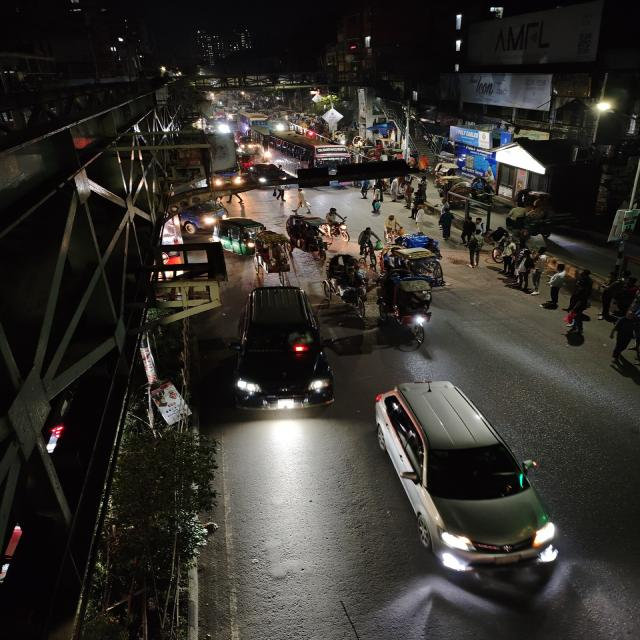bus: (263, 134, 351, 174), (237, 112, 270, 130)
car: (362, 372, 568, 582), (228, 282, 338, 418), (246, 162, 292, 187)
cng: (213, 216, 267, 260), (235, 134, 260, 156)
pedestrian: (602, 311, 640, 373), (544, 263, 572, 309), (598, 278, 627, 321), (566, 272, 596, 312), (515, 252, 543, 294), (356, 224, 380, 264), (564, 308, 594, 335), (324, 206, 348, 238), (491, 234, 514, 266), (407, 187, 428, 222), (464, 232, 485, 266), (436, 209, 457, 241), (500, 239, 518, 275), (369, 183, 389, 215), (294, 186, 313, 215), (458, 216, 476, 243), (384, 214, 402, 241), (491, 225, 508, 251), (271, 184, 288, 206), (533, 246, 552, 264), (356, 182, 370, 200)
pickup_van: (211, 166, 244, 190)
rickshaw: (374, 268, 434, 348), (321, 254, 372, 318), (249, 228, 294, 280), (286, 212, 332, 261)
